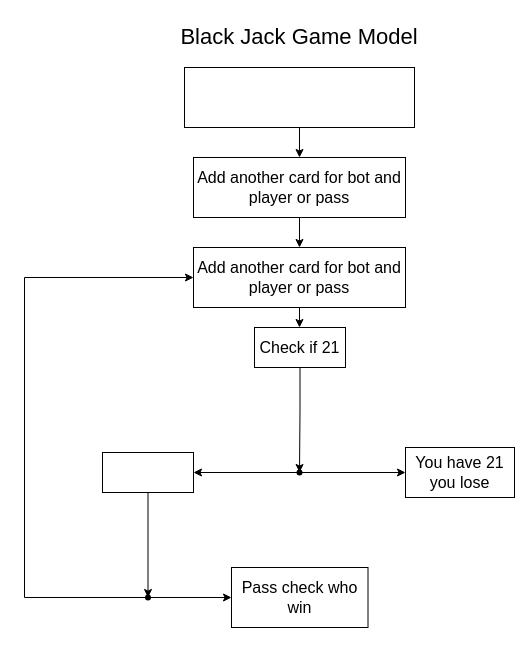
Image size: 532x645. Some labels were removed from this diagram. Each missing label, with the centre of its shape:
Generate 2 random cards for me and Bot: (x=299, y=97)
You don't have 21: (x=148, y=472)
